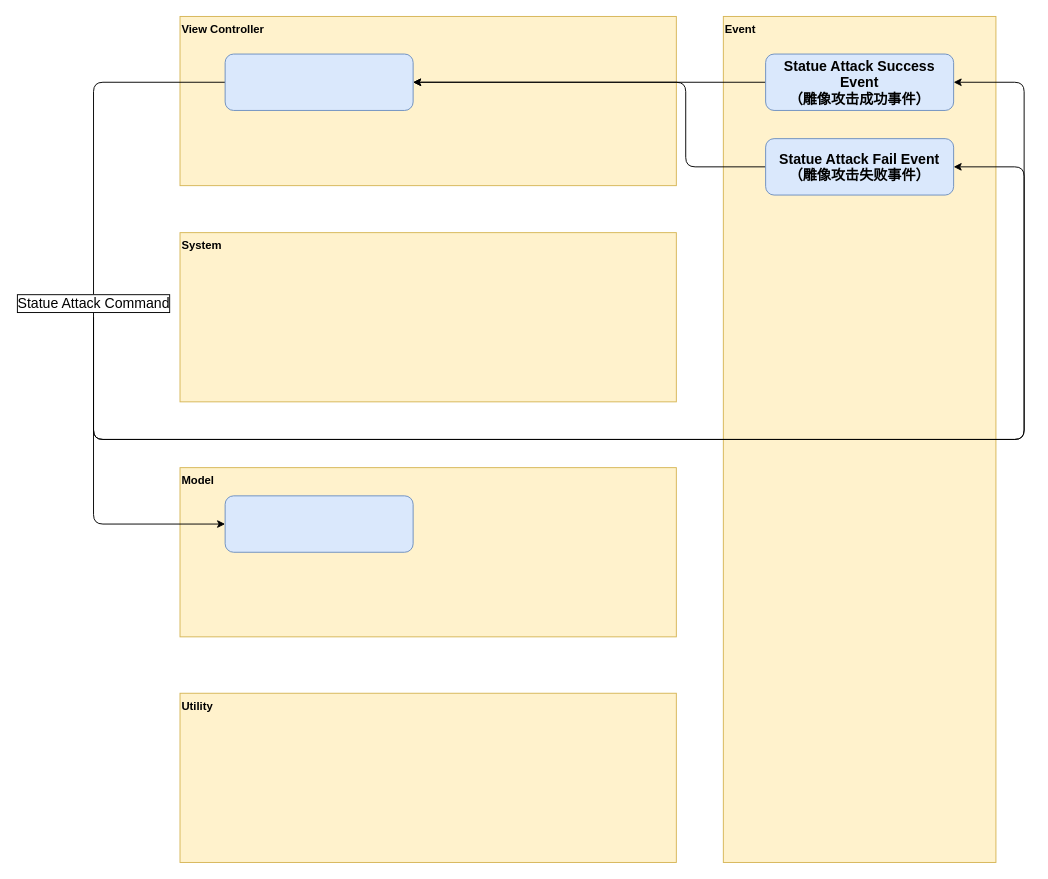
Image size: 1048x879. Some labels were removed from this diagram. Here are the shapes that lost their labels. From the top down, the centre of each, then its label:
At pixel 318 81: "Statue Controller （雕像控制器）".
At pixel 318 523: "Player Model （玩家数据库）".
